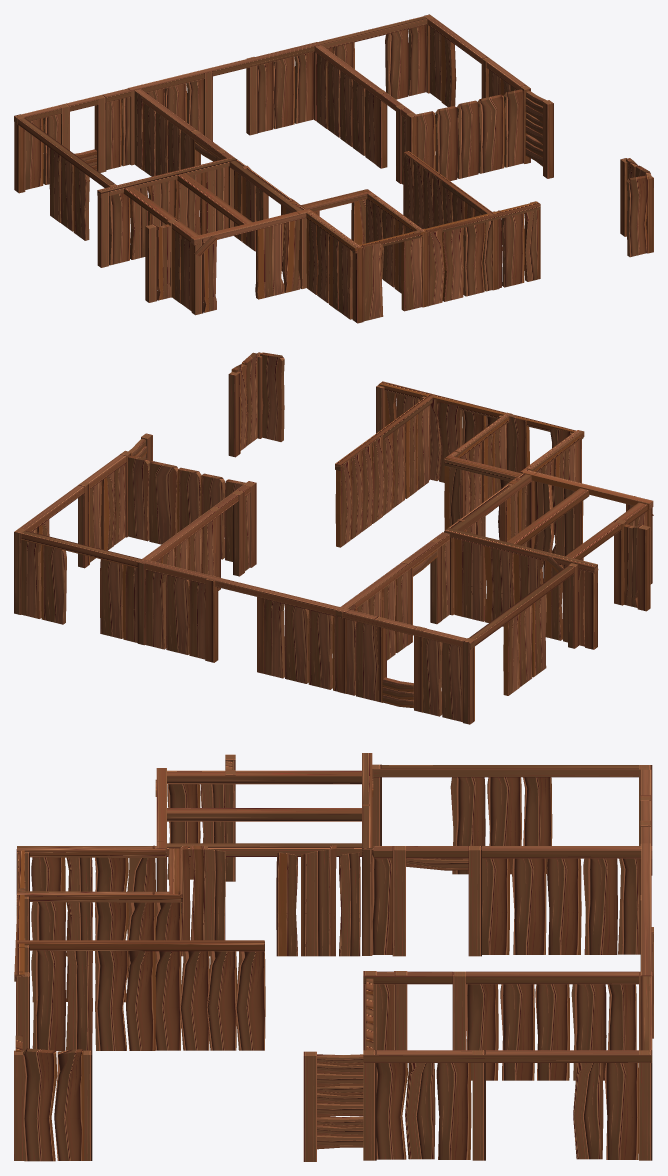
Rendered from MSH_Piso1_Muros.FBX.
3 views of the same model, one above another, from view 1: azimuth 30°, elevation 25°; view 2: azimuth 150°, elevation 25°; view 3: azimuth 270°, elevation 25° (orthographic). The views are drawn at different scales.
Visible parts, largest first — view 1: MSH_Piso1_Muros, MSH_Piso1_Muros_07, MSH_Piso1_Muros_12, MSH_Piso1_Muros_10, MSH_Piso1_Muros_01, MSH_Piso1_Muros_09, MSH_Piso1_Muros_02, MSH_Piso1_Muros_05, MSH_Piso1_Muros_08, MSH_Piso1_Muros_03, MSH_Piso1_Muros_11; view 2: MSH_Piso1_Muros, MSH_Piso1_Muros_07, MSH_Piso1_Muros_01, MSH_Piso1_Muros_12, MSH_Piso1_Muros_10, MSH_Piso1_Muros_08, MSH_Piso1_Muros_02, MSH_Piso1_Muros_09, MSH_Piso1_Muros_11, MSH_Piso1_Muros_03, MSH_Piso1_Muros_05, MSH_Piso1_Muros_04; view 3: MSH_Piso1_Muros, MSH_Piso1_Muros_01, MSH_Piso1_Muros_10, MSH_Piso1_Muros_09, MSH_Piso1_Muros_05, MSH_Piso1_Muros_08, MSH_Piso1_Muros_02, MSH_Piso1_Muros_04, MSH_Piso1_Muros_11, MSH_Piso1_Muros_07, MSH_Piso1_Muros_03.
Part boxes in pixels (<box>): MSH_Piso1_Muros: <box>14,14,653,323</box>; MSH_Piso1_Muros_07: <box>97,157,237,267</box>; MSH_Piso1_Muros_12: <box>416,89,523,180</box>; MSH_Piso1_Muros_10: <box>314,45,418,168</box>; MSH_Piso1_Muros_01: <box>403,151,495,228</box>; MSH_Piso1_Muros_09: <box>134,92,200,176</box>; MSH_Piso1_Muros_02: <box>363,189,425,293</box>; MSH_Piso1_Muros_05: <box>229,159,305,250</box>; MSH_Piso1_Muros_08: <box>134,89,233,227</box>; MSH_Piso1_Muros_03: <box>300,189,370,244</box>; MSH_Piso1_Muros_11: <box>396,105,417,184</box>; MSH_Piso1_Muros: <box>14,352,653,724</box>; MSH_Piso1_Muros_07: <box>444,528,598,649</box>; MSH_Piso1_Muros_01: <box>335,394,435,547</box>; MSH_Piso1_Muros_12: <box>128,455,245,561</box>; MSH_Piso1_Muros_10: <box>143,481,250,603</box>; MSH_Piso1_Muros_08: <box>335,531,454,624</box>; MSH_Piso1_Muros_02: <box>444,412,512,530</box>; MSH_Piso1_Muros_09: <box>348,559,412,660</box>; MSH_Piso1_Muros_11: <box>233,481,256,576</box>; MSH_Piso1_Muros_03: <box>444,456,521,539</box>; MSH_Piso1_Muros_05: <box>448,473,531,536</box>; MSH_Piso1_Muros_04: <box>499,477,527,546</box>; MSH_Piso1_Muros: <box>14,754,653,1161</box>; MSH_Piso1_Muros_01: <box>17,940,265,1050</box>; MSH_Piso1_Muros_10: <box>363,971,638,1080</box>; MSH_Piso1_Muros_09: <box>468,846,640,956</box>; MSH_Piso1_Muros_05: <box>167,843,363,956</box>; MSH_Piso1_Muros_08: <box>362,846,652,956</box>; MSH_Piso1_Muros_02: <box>17,891,181,1002</box>; MSH_Piso1_Muros_04: <box>168,845,225,956</box>; MSH_Piso1_Muros_11: <box>363,971,407,1050</box>; MSH_Piso1_Muros_07: <box>362,753,372,848</box>; MSH_Piso1_Muros_03: <box>169,848,182,902</box>.
Bounding box in the file's own units: 892 × 152 × 801.
